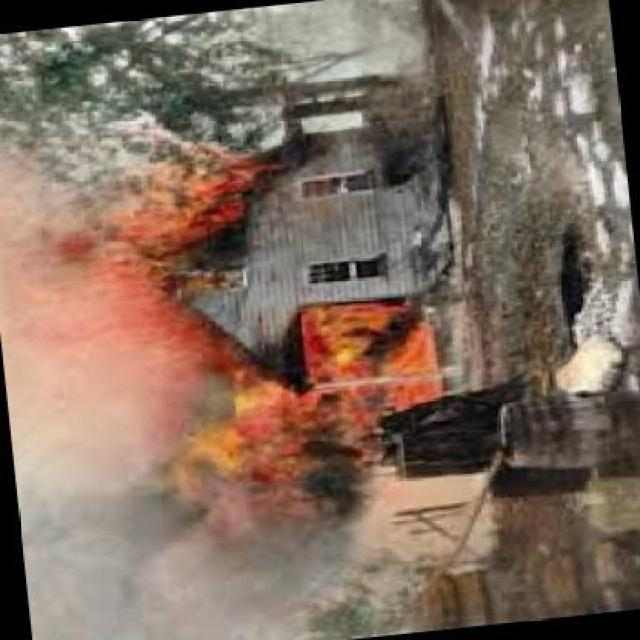Fire: (193, 298, 451, 487), (84, 162, 286, 296)
Smoke: (18, 303, 189, 636), (206, 498, 405, 636), (1, 128, 72, 294)
